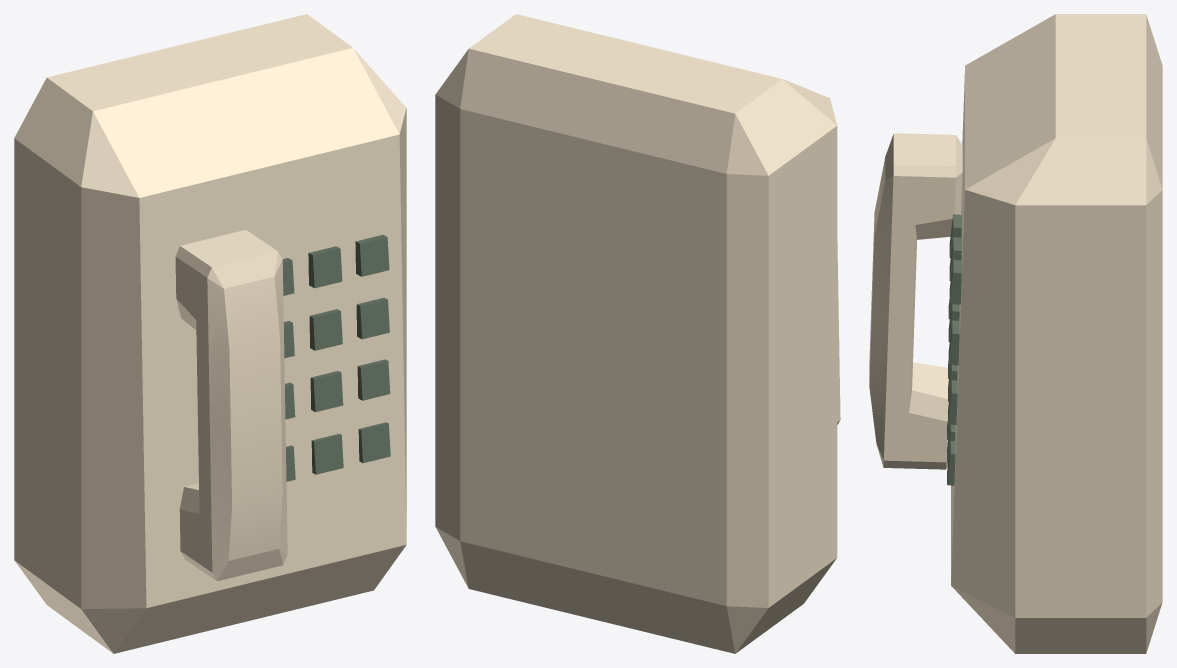
Rendered from tele.fbx.
The picture shows the model from 3 angles, left to right: view 1: azimuth 30°, elevation 25°; view 2: azimuth 150°, elevation 25°; view 3: azimuth 270°, elevation 25°; orthographic projection. The views are drawn at different scales.
Parts seen in each view (by area): view 1: pCube32; view 2: pCube32; view 3: pCube32.
Boxes of the visible parts, left/top/right/bottom form: pCube32: left=14, top=14, right=406, bottom=653; pCube32: left=435, top=14, right=840, bottom=653; pCube32: left=869, top=14, right=1162, bottom=653.
Bounding box in the file's own units: 4.98 × 7.72 × 3.98.
